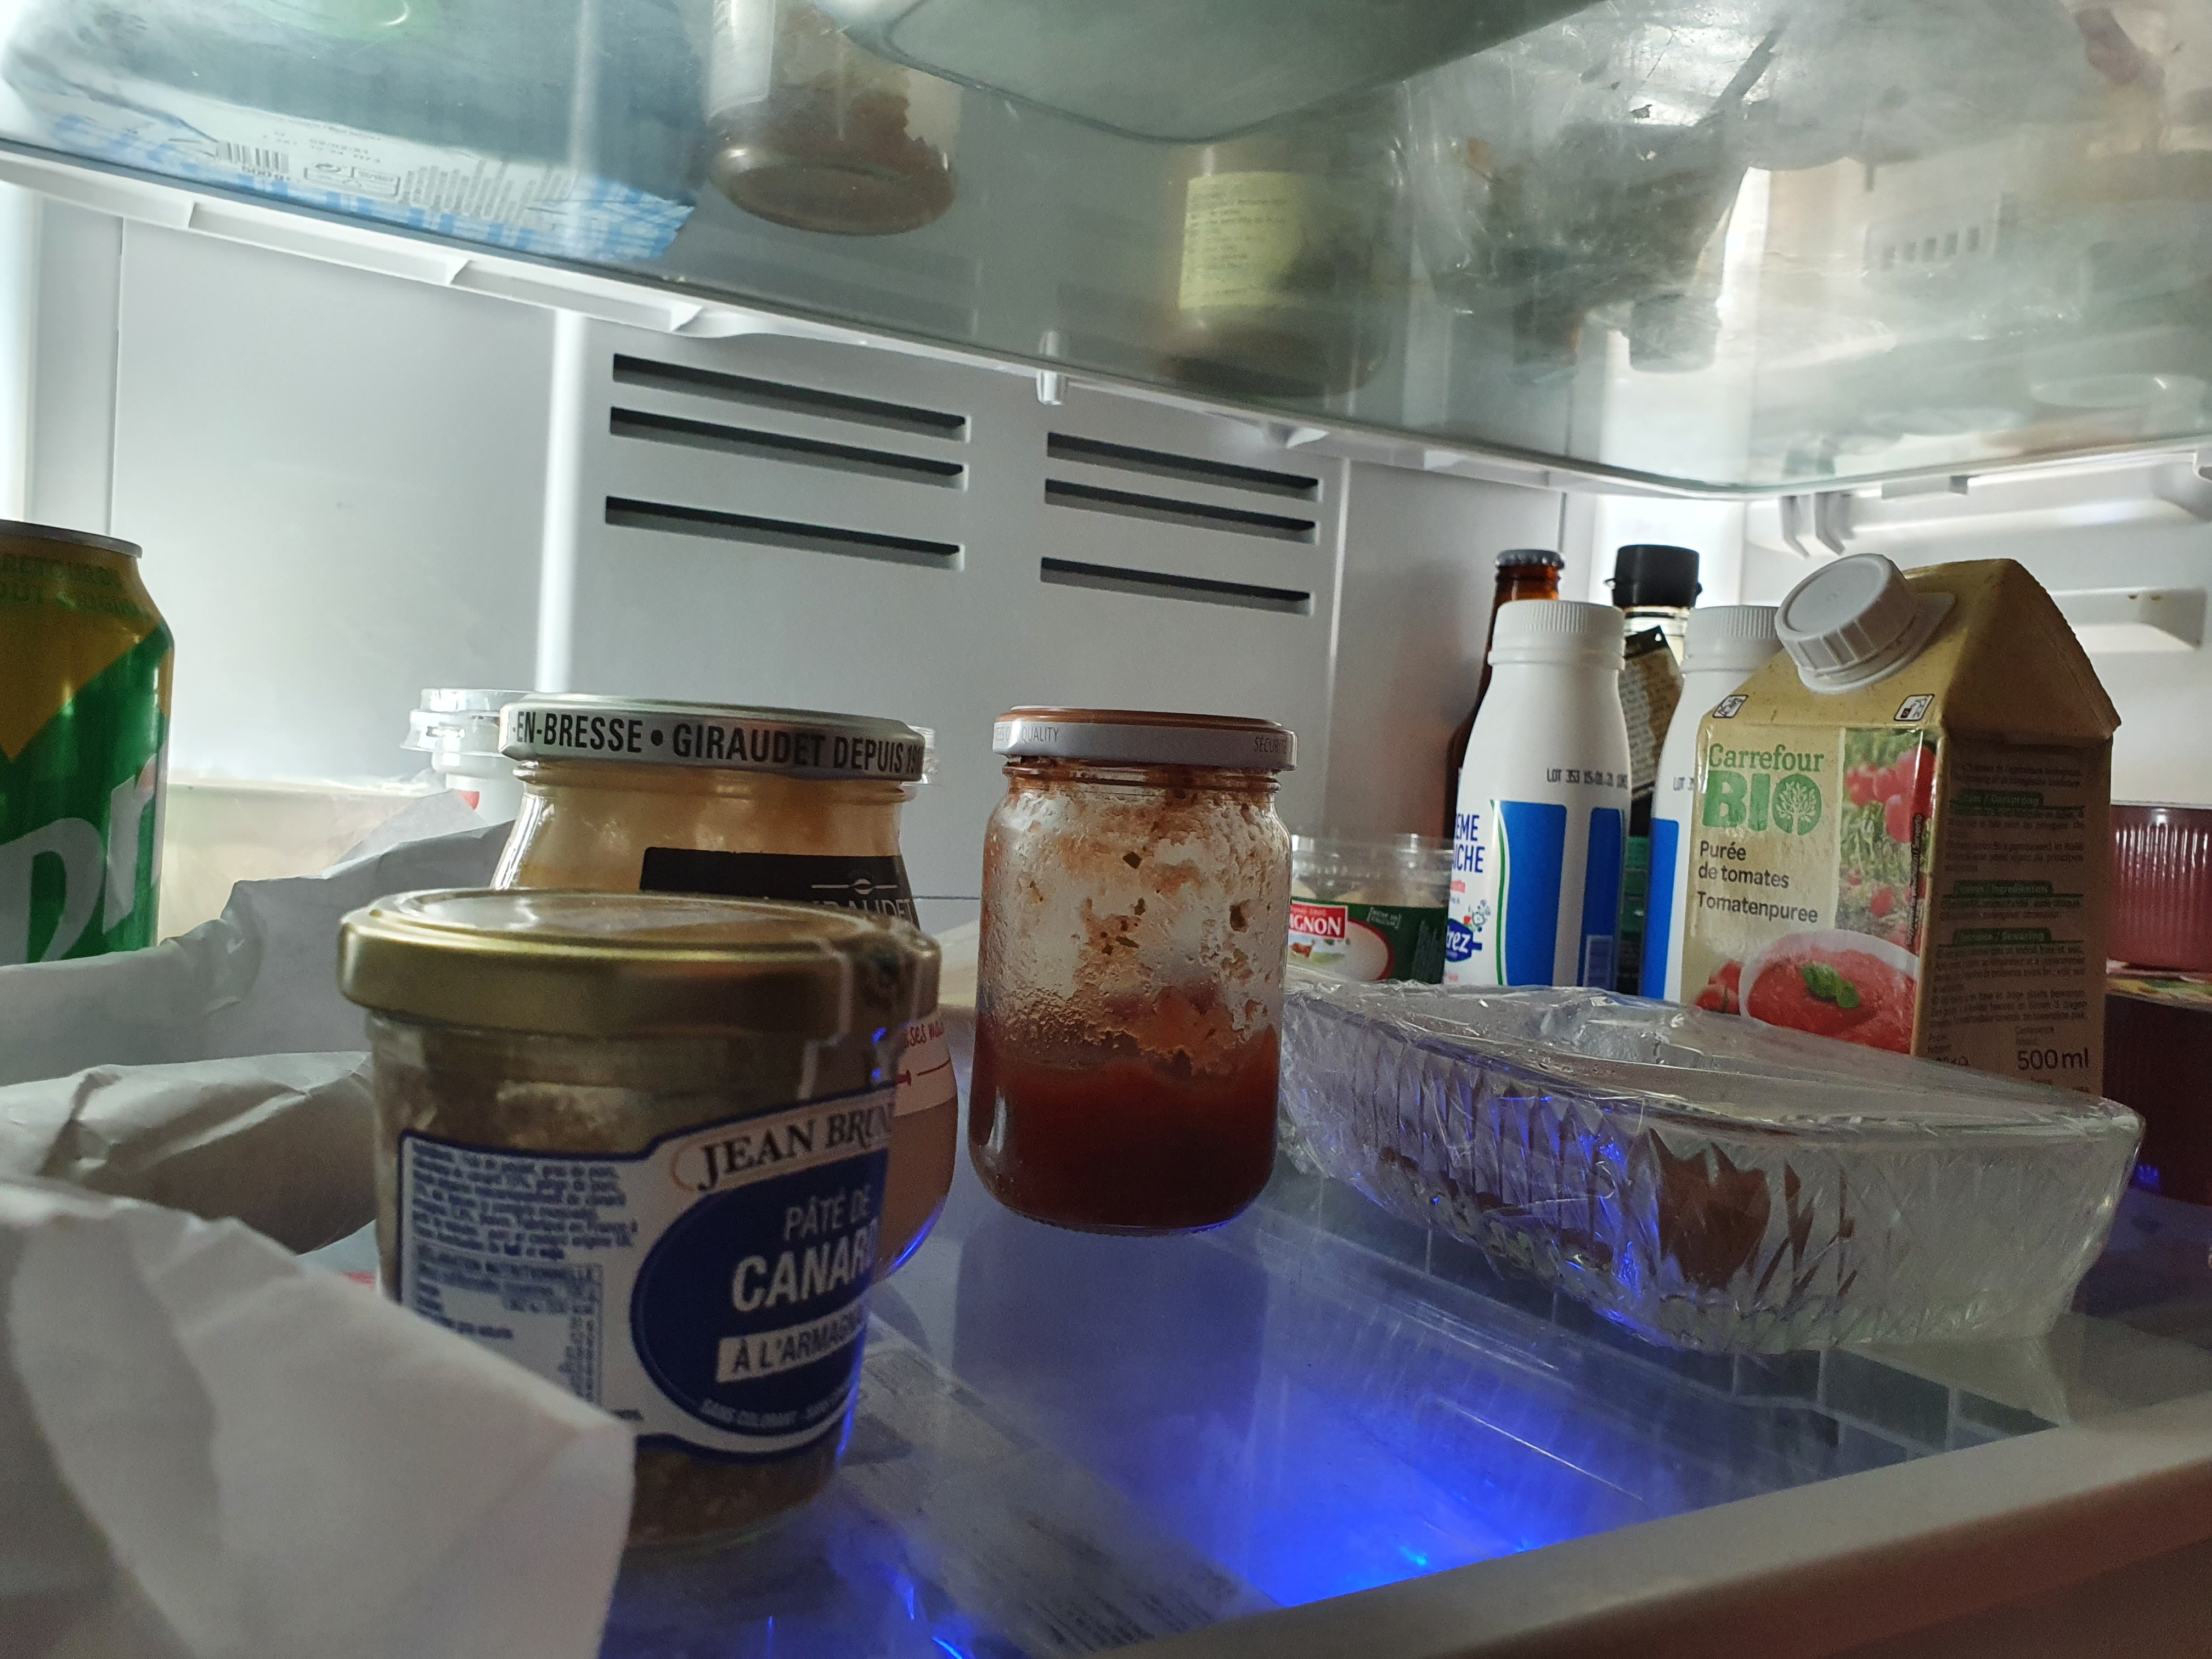bottle: (1444, 598, 1625, 986), (1649, 606, 1792, 1021), (1440, 547, 1564, 861)
compote: (2104, 976, 2209, 1180), (2107, 796, 2212, 967)
